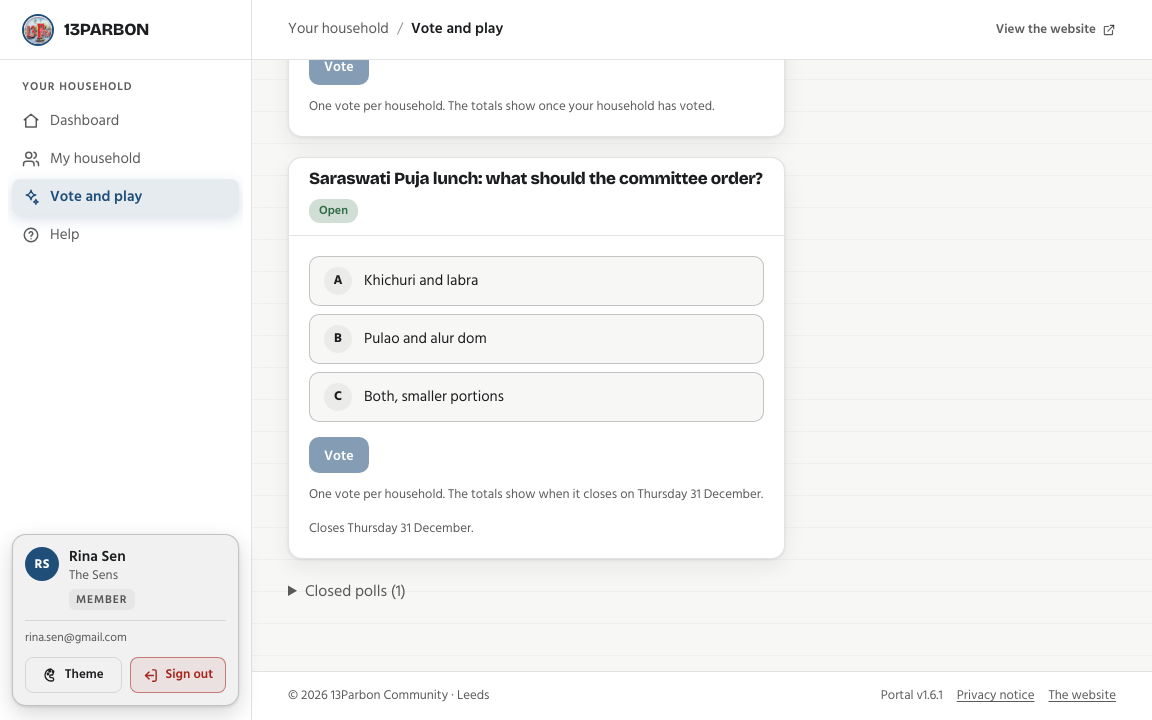
Test: polls and quizzes, for a member › keeps closed polls folded away, with their totals
(page scrolled)
What coordinates should you click on to do the following:
click the heading "Closed polls (1)"
I would click on:
 (355, 591)
Its box is left=305, top=578, right=406, bottom=604.
(page scrolled)
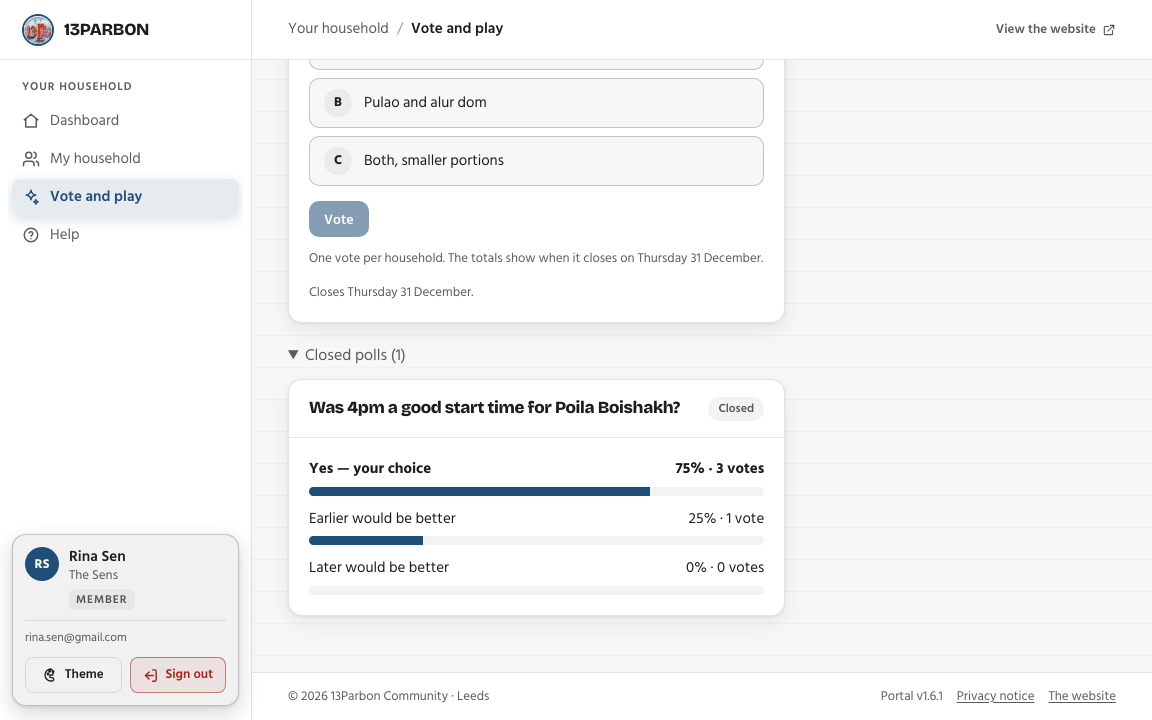
Check: the text "Yes — your choice" is shown, box left=309, top=458, right=431, bottom=481
